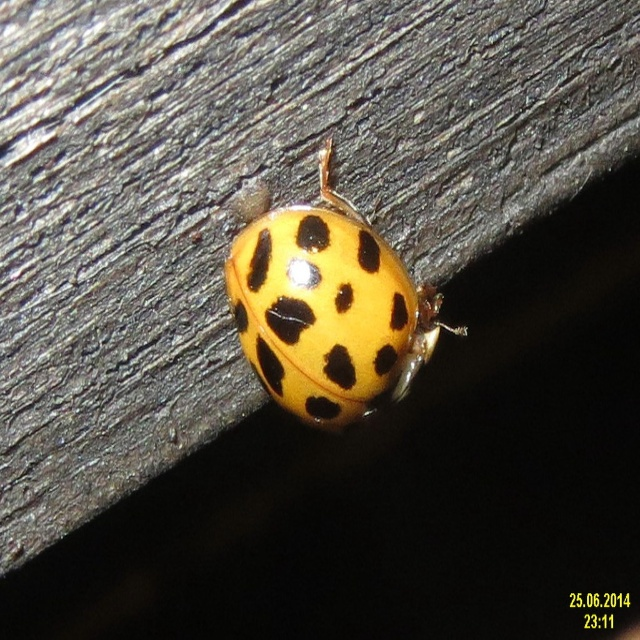Ladybug: (218, 133, 468, 448)
